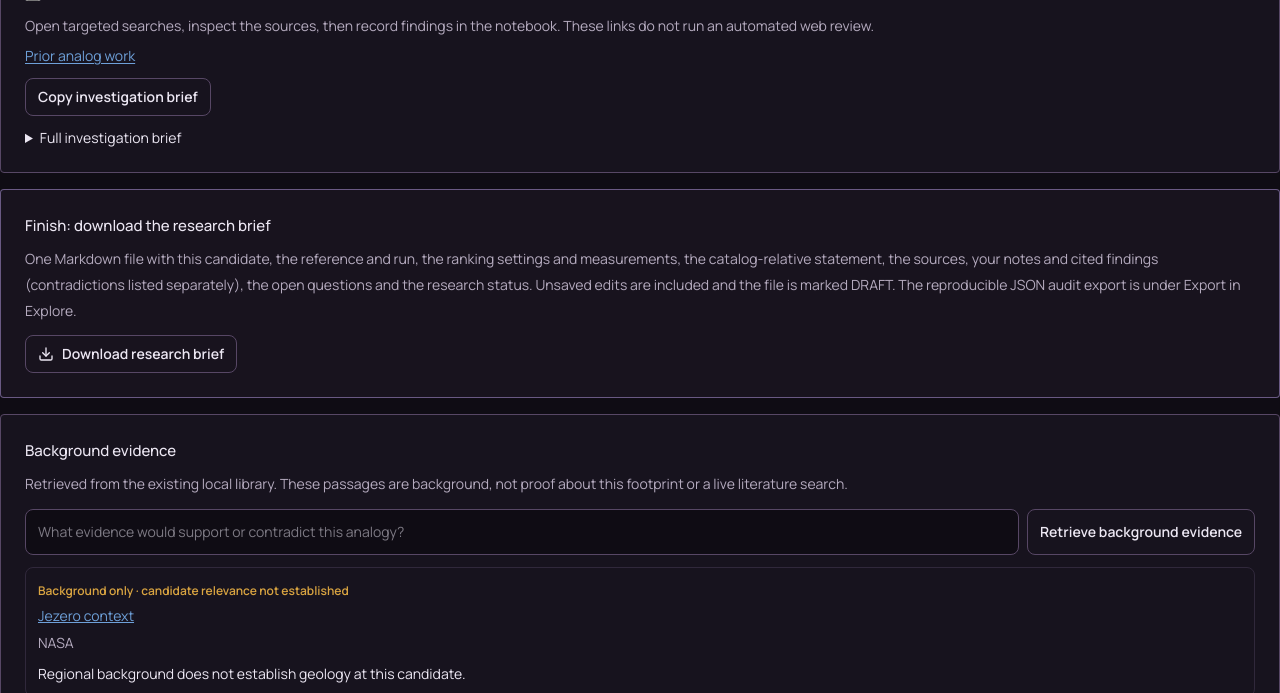
Test case: candidate deep research › downloads a research brief without saving, marked DRAFT while edits are unsaved
(page scrolled)
Click the button with test id "download-research-brief" at [131, 354], box [25, 336, 237, 374]
(page scrolled)
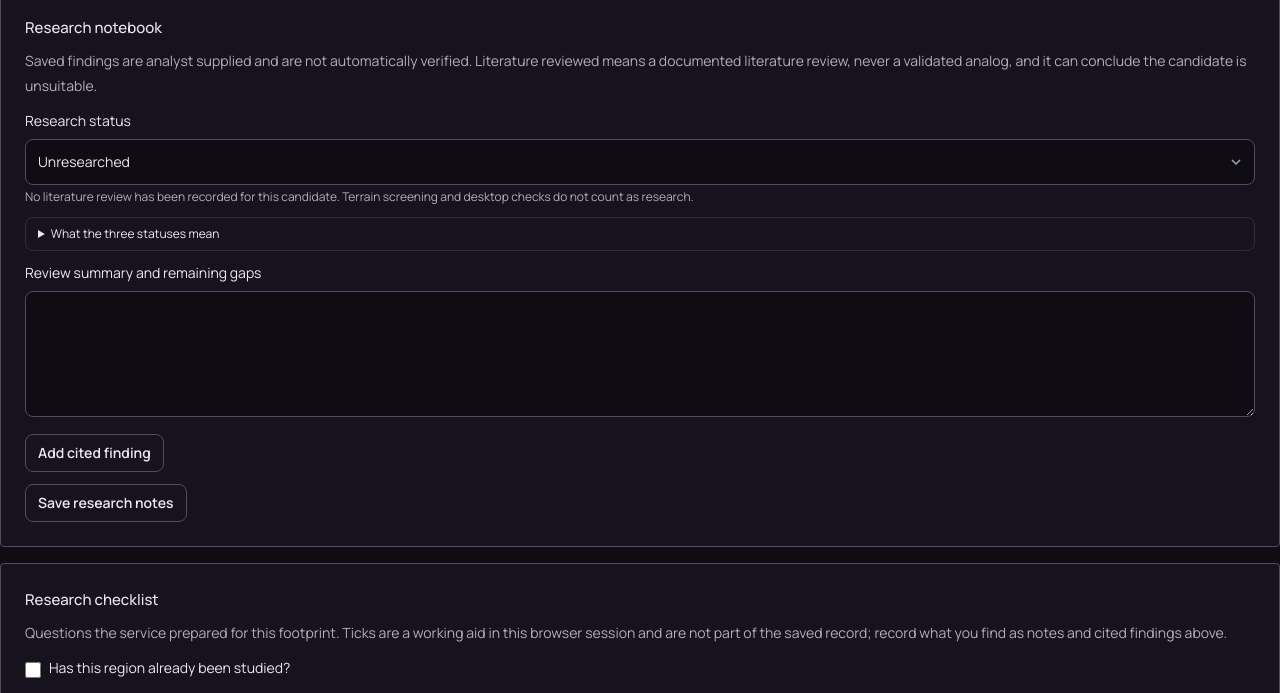
Type "Unsaved draft note." into the text box labelled "Review summary and remaining gaps" at [640, 354], box [25, 291, 1255, 417]
(page scrolled)
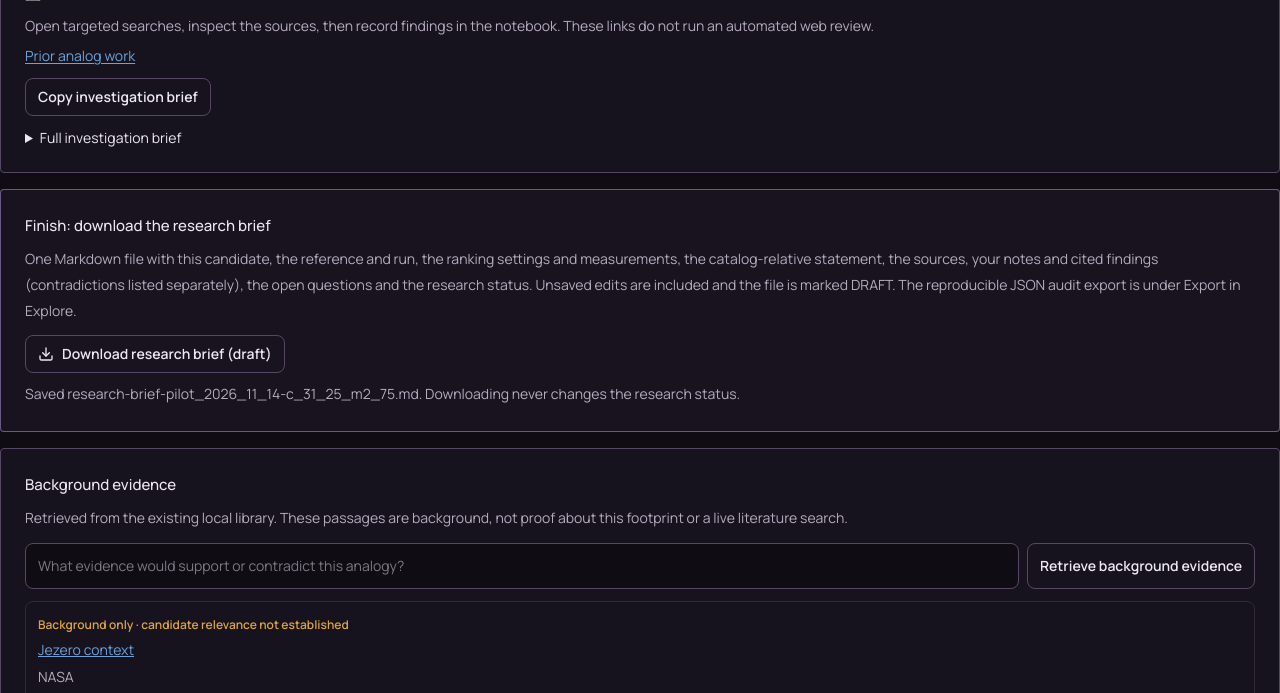
Click the button "Download research brief (draft)" at [155, 354], box [25, 336, 285, 374]
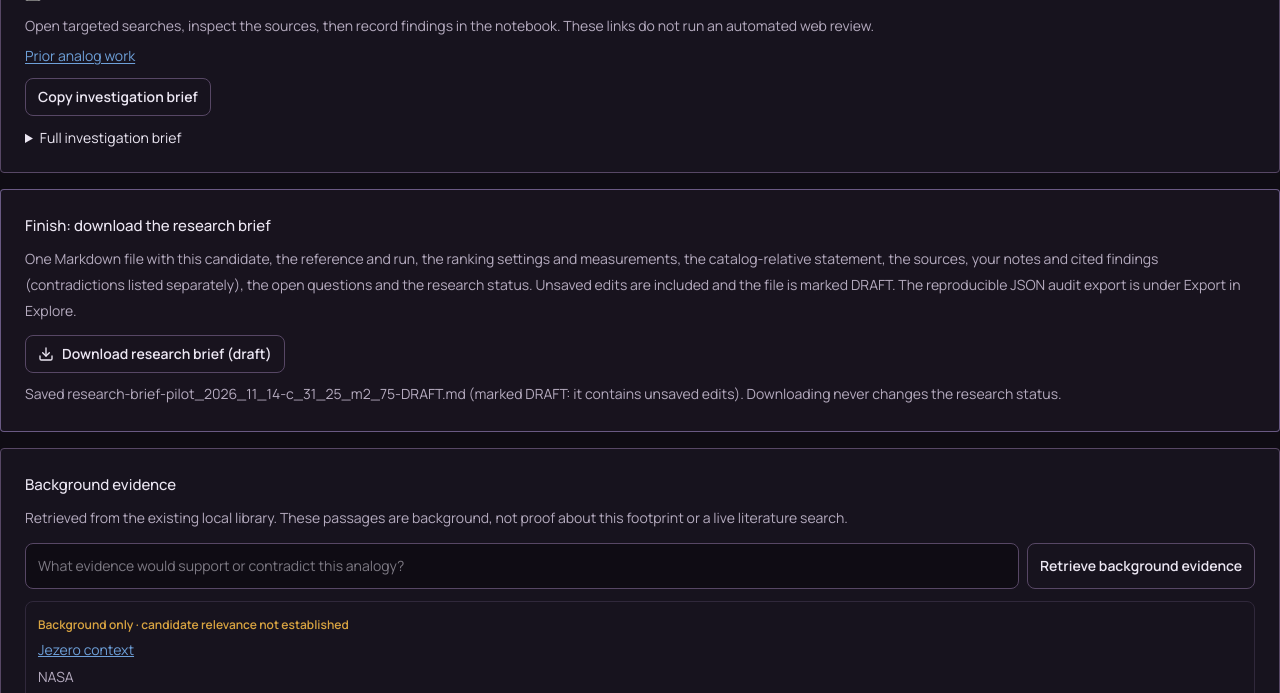
Result: the text "research-brief-pilot_2026_11_14-c_31_25_m2_75-DRAFT.md (marked DRAFT" is shown at [25, 384, 1062, 404]
